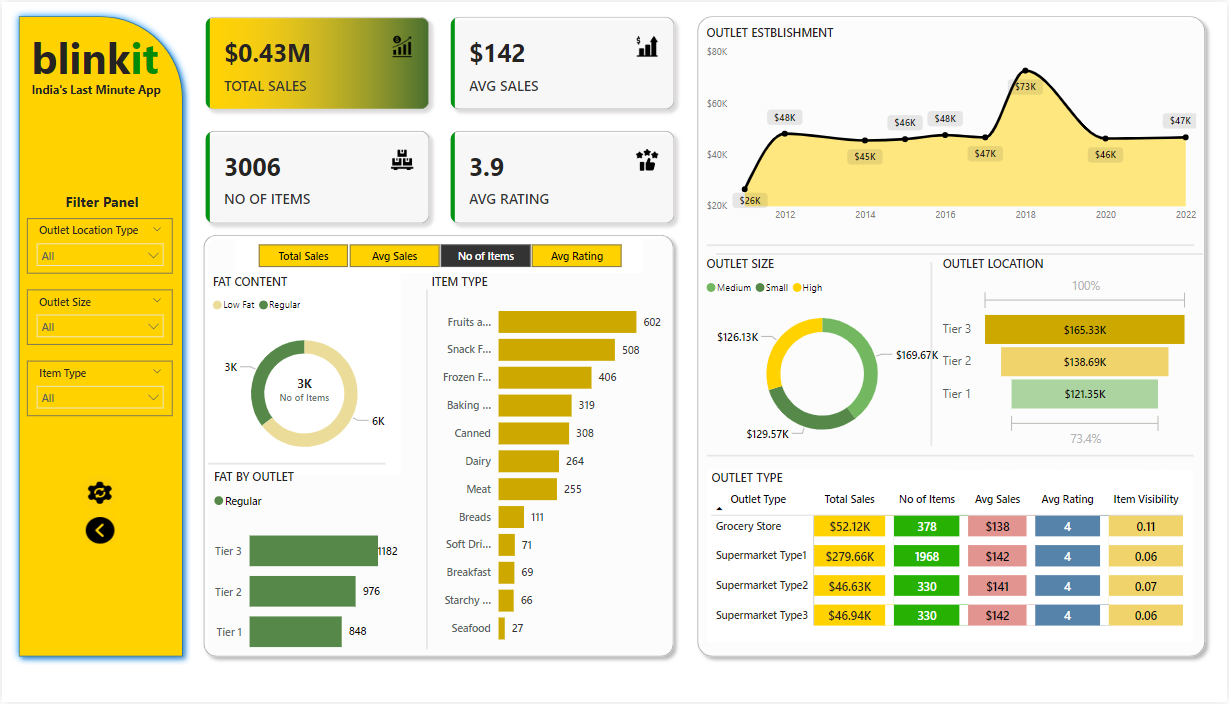

The page's visual inventory and layout, read from the dashboard file:
{"tool":"powerbi","page":{"name":"Page 1","canvas":[1400,800],"ordinal":0},"visuals":[{"type":"shape","box":[10,7.1,205.7,750],"z":0},{"type":"textbox","box":[29,25.7,166.2,81],"z":1000},{"type":"textbox","box":[29,86.2,172.4,31.4],"z":2000},{"type":"cardVisual","fields":{"Data":["BlinkIT Grocery Data.Total Sales","BlinkIT Grocery Data.Avg Sales","BlinkIT Grocery Data.No of Items","BlinkIT Grocery Data.Avg Rating"]},"box":[215.7,0,570,270],"z":3000},{"type":"shape","box":[221.7,256.7,555,500],"z":4000},{"type":"donutChart","title":"FAT CONTENT","fields":{"Y":["BlinkIT Grocery Data.No of Items"],"Category":["BlinkIT Grocery Data.Item Fat Content"]},"box":[236,310,220,230],"z":5000},{"type":"slicer","fields":{"Values":["Metrics.Metrics"]},"box":[266.7,270,465,40],"z":6000},{"type":"cardVisual","fields":{"Data":["BlinkIT Grocery Data.No of Items"]},"box":[300,410,91.4,59.3],"z":7000},{"type":"clusteredBarChart","title":"FAT BY OUTLET","fields":{"Y":["BlinkIT Grocery Data.No of Items"],"Category":["BlinkIT Grocery Data.Outlet Location Type"],"Series":["BlinkIT Grocery Data.Item Fat Content"]},"box":[236.7,533.3,220,230],"z":8000},{"type":"shape","box":[235.8,506.7,202.5,40.8],"z":9000},{"type":"shape","box":[470,328.6,31.4,411.4],"z":10000},{"type":"barChart","title":"ITEM TYPE","fields":{"Y":["BlinkIT Grocery Data.No of Items"],"Category":["BlinkIT Grocery Data.Item Type"]},"box":[485.6,310,275.6,436.9],"z":11000},{"type":"shape","box":[785,6.7,598.3,750],"z":12000},{"type":"lineChart","title":"OUTLET ESTBLISHMENT","fields":{"Category":["BlinkIT Grocery Data.Outlet Establishment Year"],"Y":["BlinkIT Grocery Data.Total Sales"]},"box":[800,25,570,235],"z":13000},{"type":"shape","box":[805,256.7,556.7,41.7],"z":14000},{"type":"donutChart","title":"OUTLET SIZE","fields":{"Y":["BlinkIT Grocery Data.Total Sales"],"Category":["BlinkIT Grocery Data.Outlet Size"]},"box":[800,290,275,225],"z":15000},{"type":"shape","box":[1047.5,296.7,30,210],"z":16000},{"type":"funnel","title":"OUTLET LOCATION","fields":{"Y":["BlinkIT Grocery Data.Total Sales"],"Category":["BlinkIT Grocery Data.Outlet Location Type"]},"box":[1070,290,291.7,225],"z":17000},{"type":"shape","box":[805,497.5,556.2,42.5],"z":18000},{"type":"pivotTable","title":"OUTLET TYPE","fields":{"Rows":["BlinkIT Grocery Data.Outlet Type"],"Values":["BlinkIT Grocery Data.Total Sales","BlinkIT Grocery Data.No of Items","BlinkIT Grocery Data.Avg Sales","BlinkIT Grocery Data.Avg Rating","Avg(BlinkIT Grocery Data.Item Visibility)"]},"box":[805,533.8,556.2,197.5],"z":19000},{"type":"slicer","fields":{"Values":["BlinkIT Grocery Data.Outlet Location Type"]},"box":[28.3,246.7,166.7,63.3],"z":20000},{"type":"shape","box":[815,266.7,556.7,41.7],"z":21000},{"type":"slicer","fields":{"Values":["BlinkIT Grocery Data.Outlet Size"]},"box":[28.3,328.3,166.7,63.3],"z":22000},{"type":"slicer","fields":{"Values":["BlinkIT Grocery Data.Item Type"]},"box":[28.3,410,166.7,63.3],"z":23000},{"type":"textbox","box":[67.4,211.1,109.4,35.6],"z":24000},{"type":"actionButton","box":[89,540,46,41],"z":25000},{"type":"actionButton","box":[95,589,33,30],"z":26000}]}

Visuals, with their boxes in screenshot pixels (x1, y1, x2, y2), scaled from the page's 1400x800 canvas onto the 1229x704 screenshot:
shape: crop(9, 6, 189, 666)
textbox: crop(25, 23, 171, 94)
textbox: crop(25, 76, 177, 103)
cardVisual - BlinkIT Grocery Data.Total Sales x BlinkIT Grocery Data.Avg Sales: crop(189, 0, 690, 238)
shape: crop(195, 226, 682, 666)
"FAT CONTENT" donutChart: crop(207, 273, 400, 475)
slicer - Metrics.Metrics: crop(234, 238, 642, 273)
cardVisual - BlinkIT Grocery Data.No of Items: crop(263, 361, 344, 413)
"FAT BY OUTLET" clusteredBarChart: crop(208, 469, 401, 672)
shape: crop(207, 446, 385, 482)
shape: crop(413, 289, 440, 651)
"ITEM TYPE" barChart: crop(426, 273, 668, 657)
shape: crop(689, 6, 1214, 666)
"OUTLET ESTBLISHMENT" lineChart: crop(702, 22, 1203, 229)
shape: crop(707, 226, 1195, 263)
"OUTLET SIZE" donutChart: crop(702, 255, 944, 453)
shape: crop(920, 261, 946, 446)
"OUTLET LOCATION" funnel: crop(939, 255, 1195, 453)
shape: crop(707, 438, 1195, 475)
"OUTLET TYPE" pivotTable: crop(707, 470, 1195, 644)
slicer - BlinkIT Grocery Data.Outlet Location Type: crop(25, 217, 171, 273)
shape: crop(715, 235, 1204, 271)
slicer - BlinkIT Grocery Data.Outlet Size: crop(25, 289, 171, 345)
slicer - BlinkIT Grocery Data.Item Type: crop(25, 361, 171, 417)
textbox: crop(59, 186, 155, 217)
actionButton: crop(78, 475, 119, 511)
actionButton: crop(83, 518, 112, 545)
